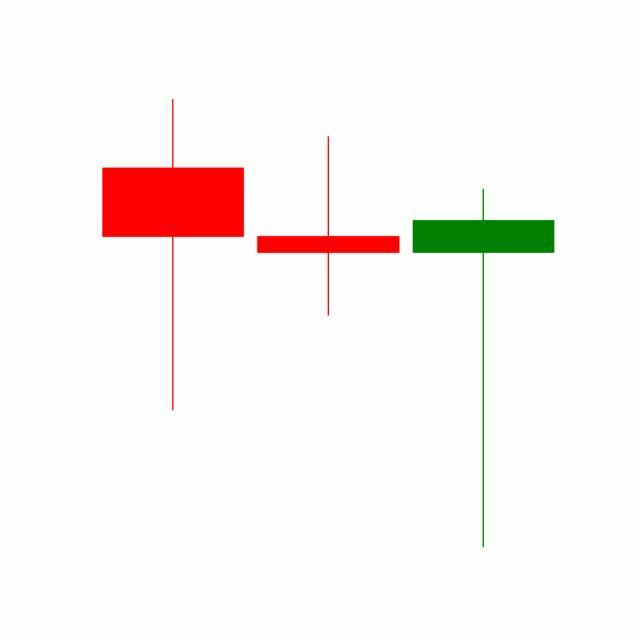Spinning Top: (250, 134, 407, 318)
